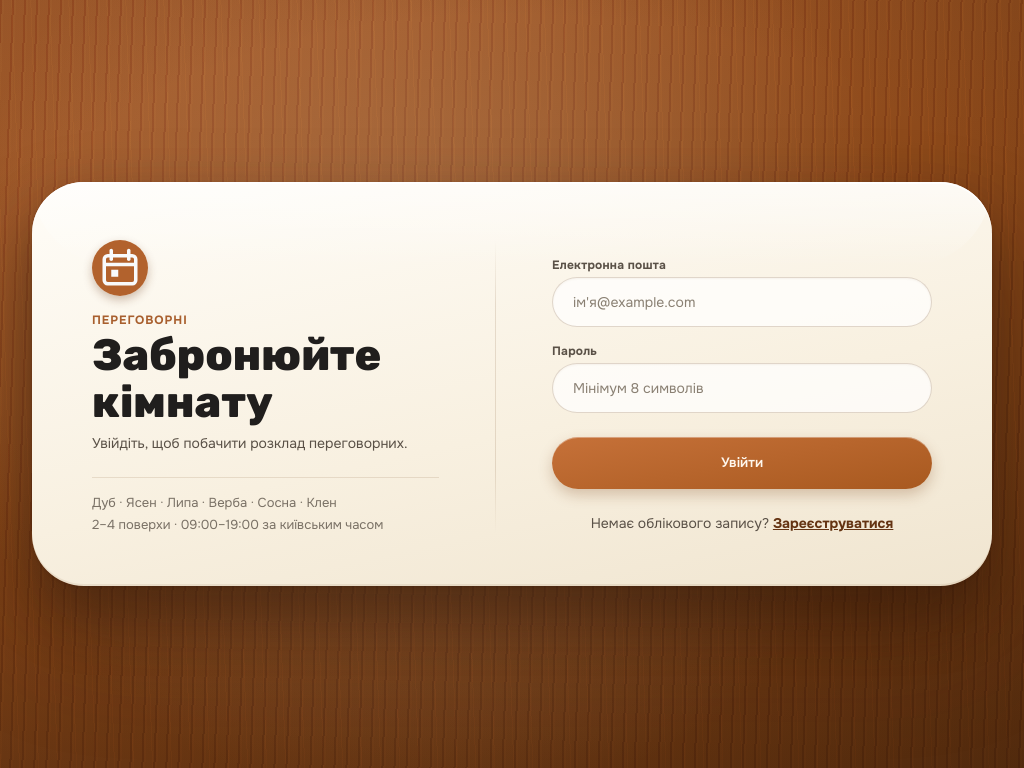
it: session lifecycle › renders the authenticated landing with the user name after a successful login
Type "ivan@example.com" into the field labelled "Електронна пошта".
click(742, 302); type("ivan@example.com")  # box x1=552 y1=277 x2=932 y2=327
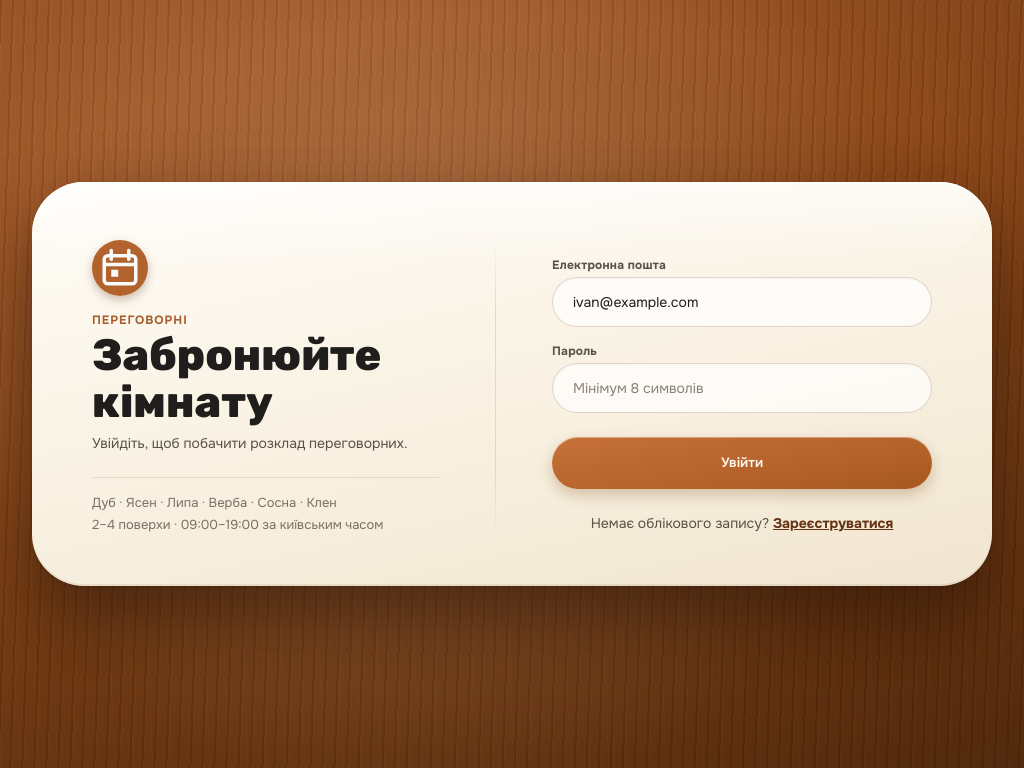
Type "super-secret" into the password field labelled "Пароль".
click(742, 388); type("super-secret")  # box x1=552 y1=363 x2=932 y2=413
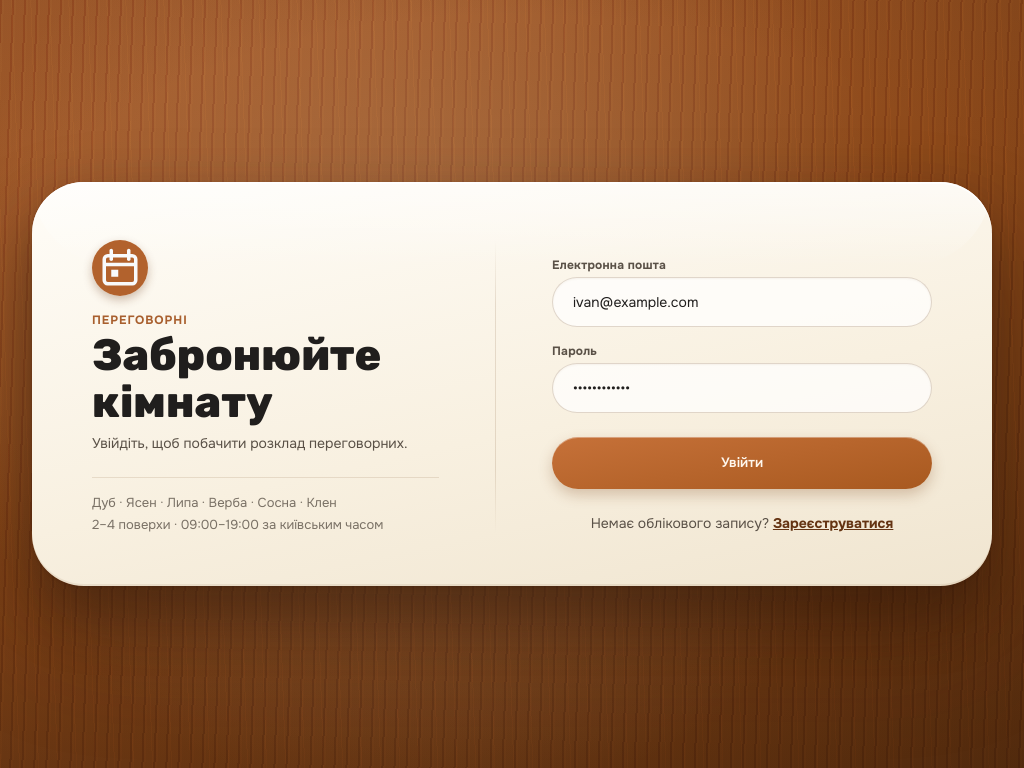
Click the button "Увійти".
click(742, 463)  # box x1=552 y1=437 x2=932 y2=489
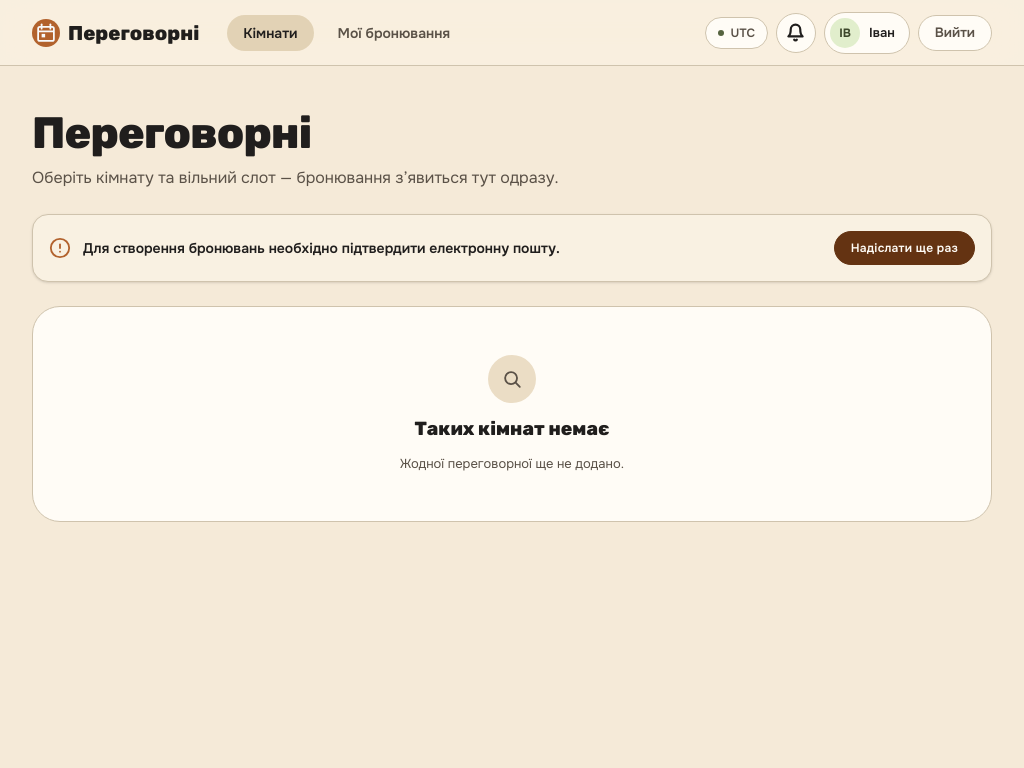
Result: the heading "Переговорні" is shown at x1=32 y1=107 x2=311 y2=159
Result: the button "Вийти" is shown at x1=918 y1=14 x2=992 y2=50
